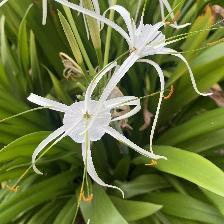spider lily: (47, 93, 127, 150)
